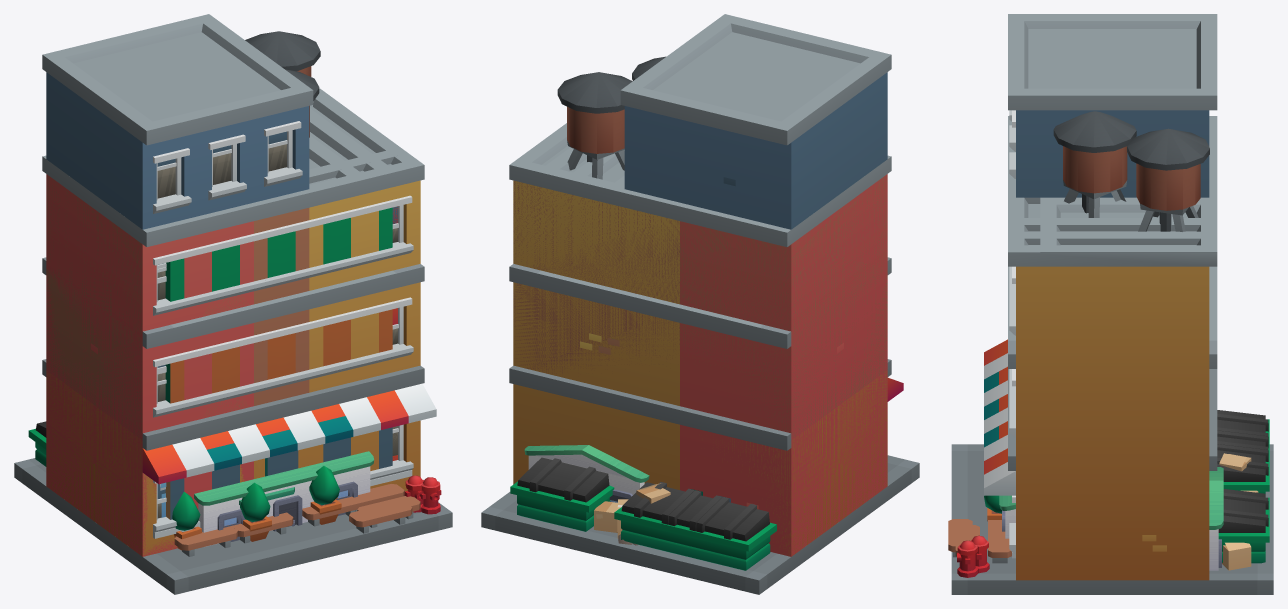
The model's file is city.glb.
3 views of the same model, side by side, from view 1: azimuth 30°, elevation 25°; view 2: azimuth 150°, elevation 25°; view 3: azimuth 270°, elevation 25° (orthographic).
Visible parts, largest first — view 1: building_F, building_H, building_E, building_D, building_G, building_B, building-type-t, building_A, building_C; view 2: building_F, building_H, building_E, building_D, building_G, building_C, building_B, building-type-n; view 3: building_F, building_H, building_D, building_C, building_G, building_E, building_B, building_A, building-type-n, building-type-t.
Boxes of the visible parts, box(x1,y1,x2,y2) form: building_F: box(42, 105, 424, 556); building_H: box(28, 14, 420, 533); building_E: box(46, 176, 436, 556); building_D: box(15, 69, 452, 594); building_G: box(42, 88, 441, 532); building_B: box(170, 270, 396, 543); building-type-t: box(194, 451, 374, 547); building_A: box(201, 277, 423, 512); building_C: box(14, 135, 360, 594); building_F: box(509, 146, 891, 556); building_H: box(557, 14, 891, 570); building_E: box(510, 175, 903, 555); building_D: box(482, 56, 918, 580); building_G: box(509, 123, 891, 563); building_C: box(481, 150, 919, 594); building_B: box(537, 270, 763, 547); building-type-n: box(524, 445, 649, 502); building_F: box(984, 197, 1217, 580); building_H: box(955, 14, 1269, 570); building_D: box(948, 111, 1273, 580); building_C: box(951, 204, 1273, 594); building_G: box(957, 116, 1269, 577); building_E: box(972, 266, 1269, 573); building_B: box(988, 266, 1269, 531); building_A: box(971, 371, 1015, 573); building-type-n: box(1209, 467, 1223, 570); building-type-t: box(999, 495, 1015, 538).
Size of the model in its own units: 2.01 by 3.05 by 2.02.
2 materials, 2 textured.
